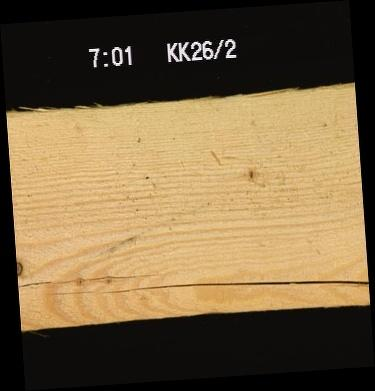dry_knot: (16, 258, 24, 277)
small_knot: (242, 165, 259, 182)
split: (43, 277, 368, 300), (18, 273, 161, 284)
